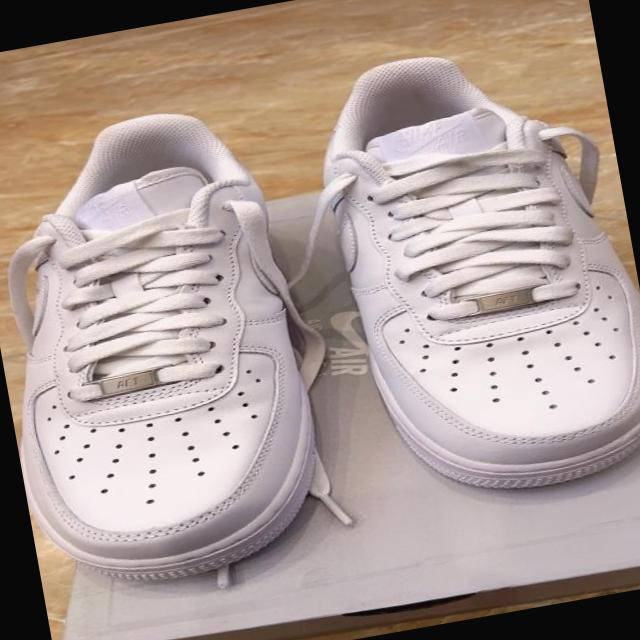nike_original_airforce: (0, 89, 366, 603), (282, 24, 640, 517)
